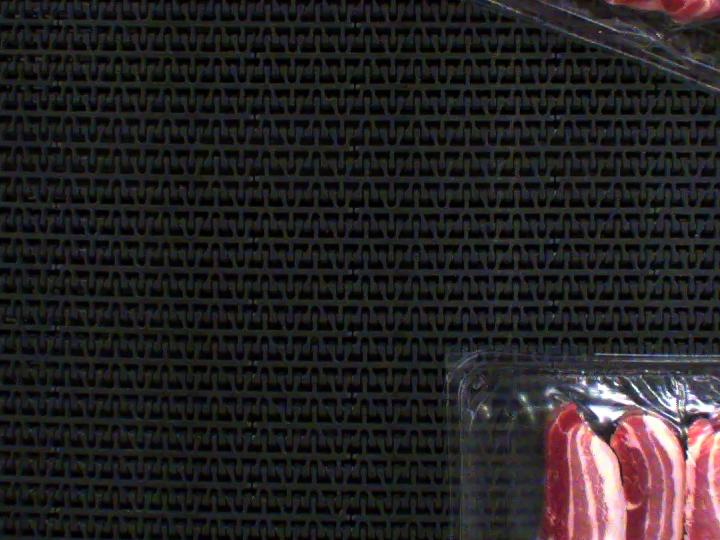unsealed: (443, 362, 720, 540)
